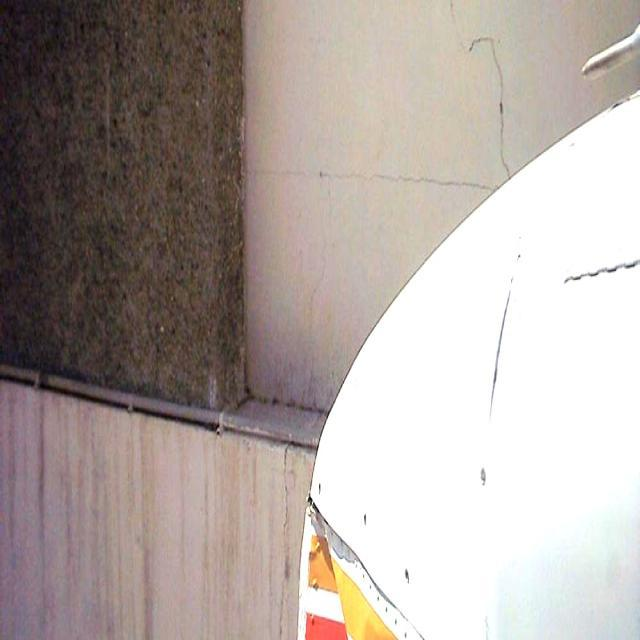dent: (299, 492, 354, 640)
